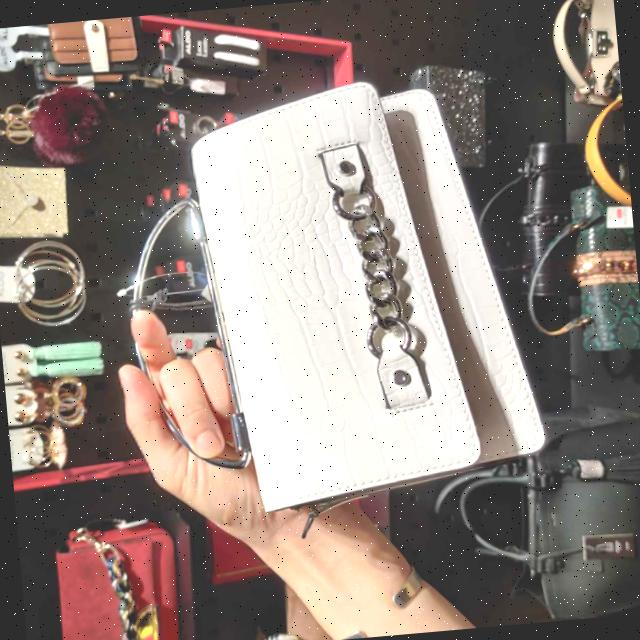Handbag: (111, 67, 553, 523)
